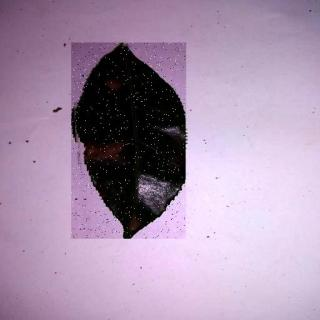Anthracnose: (73, 44, 188, 240)
